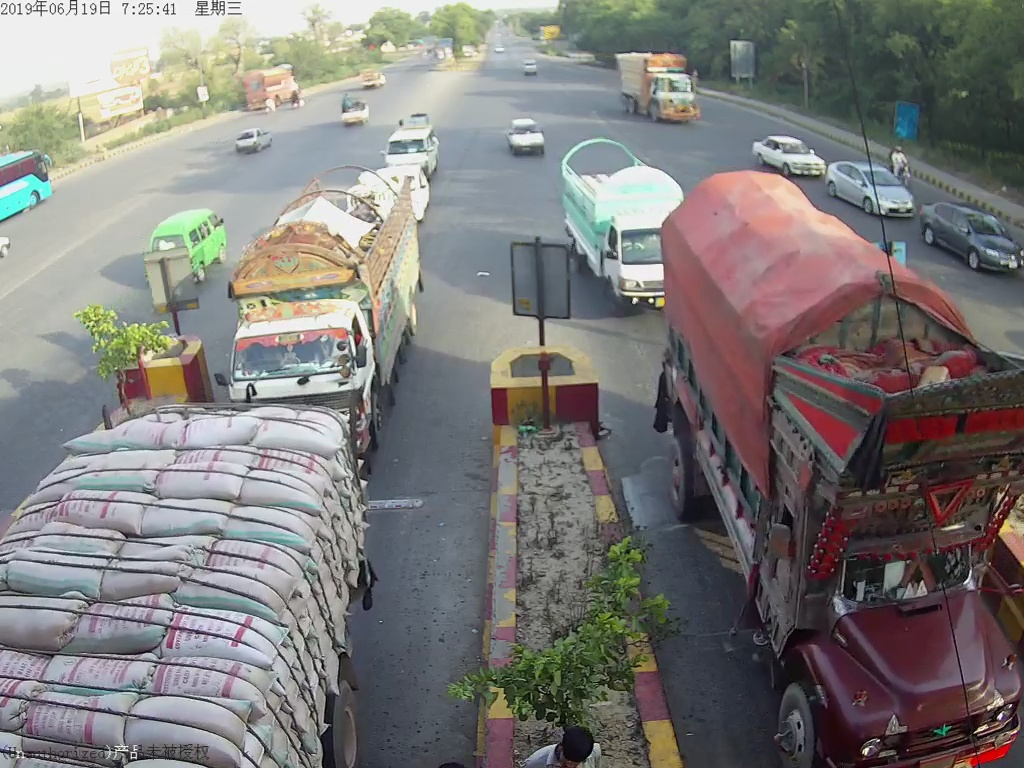Cat-2: (565, 141, 667, 303)
Cat-4: (655, 198, 1018, 768), (227, 183, 438, 421)
